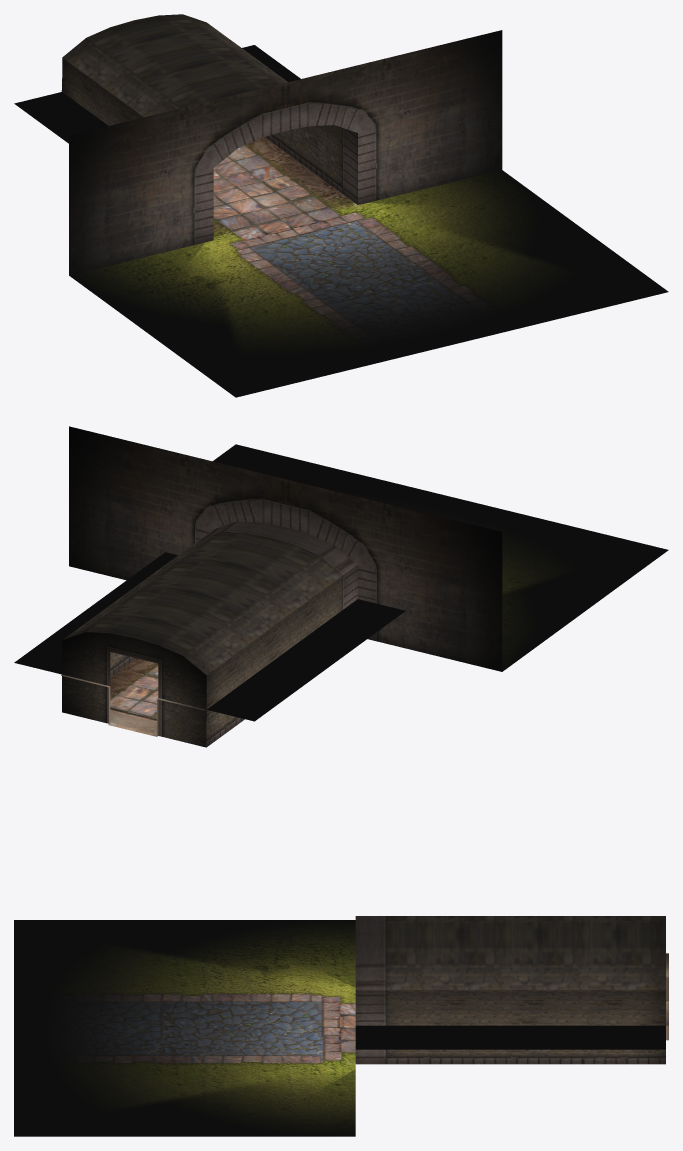
The model's file is LevelEntrance.fbx.
3 renders of one model, top to bottom at view 1: azimuth 30°, elevation 25°; view 2: azimuth 150°, elevation 25°; view 3: azimuth 270°, elevation 25°, orthographic. The views are drawn at different scales.
Parts seen in each view (by area): view 1: polySurface24, polySurface23; view 2: polySurface23, polySurface24; view 3: polySurface24, polySurface23.
Part boxes in pixels (box(x1,y1,x2,y2)): polySurface24: box(14, 45, 668, 397); polySurface23: box(62, 14, 502, 237); polySurface23: box(62, 426, 502, 709); polySurface24: box(14, 444, 668, 747); polySurface24: box(14, 920, 668, 1136); polySurface23: box(355, 916, 665, 1025).
Bounding box in the file's own units: 18 × 5.56 × 23.
